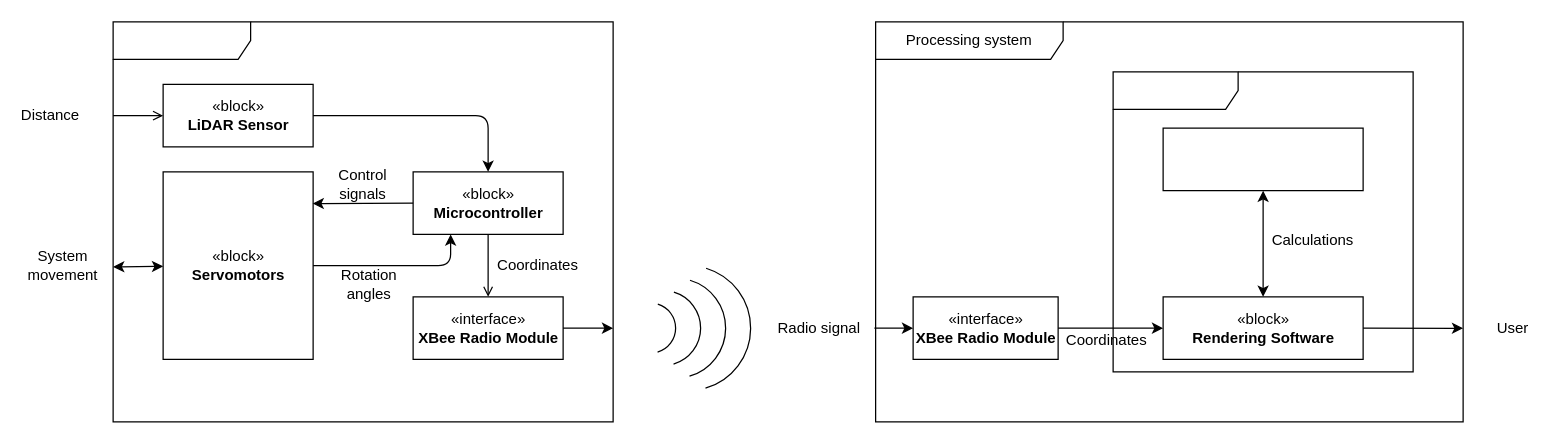
Image size: 1560x444. Some labels were removed from this diagram. The shapes that lost their labels are listed below. From the top down, each one's box as (x1, y1, x2, y2) in pixels, then its label:
(1162, 127, 1363, 191): «block» Processor
(112, 21, 613, 422): Remote system
(1112, 71, 1413, 372): Host Computer
